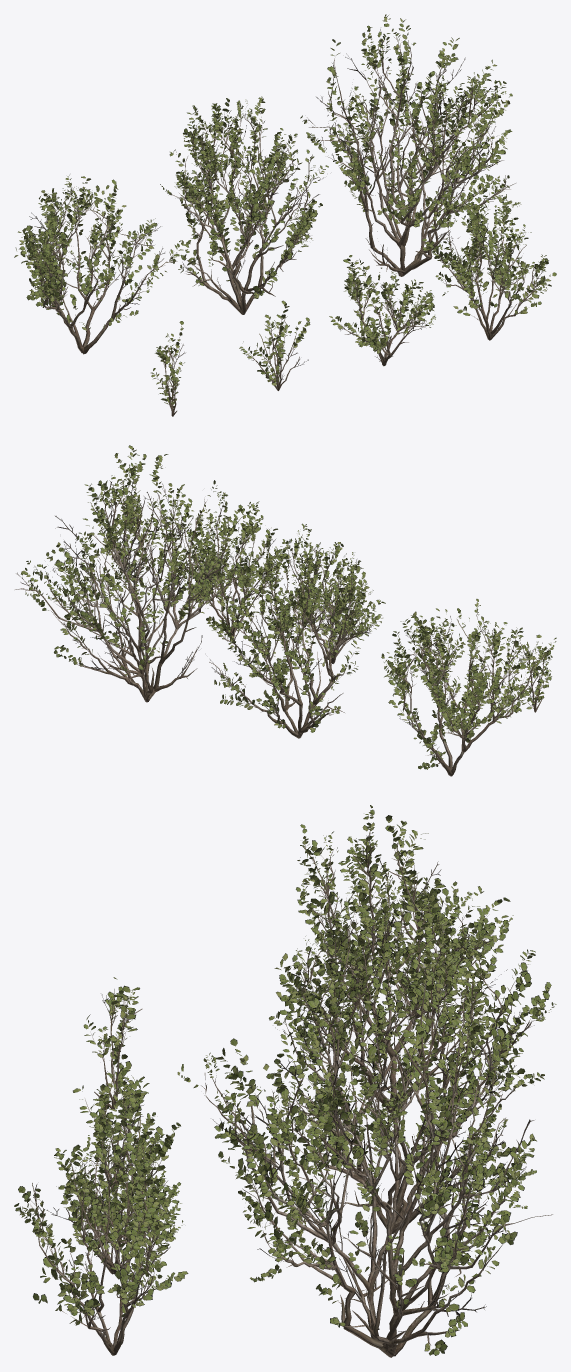
The model's file is searsia_lucida.glb.
3 views of the same model, one above another, from view 1: azimuth 30°, elevation 25°; view 2: azimuth 150°, elevation 25°; view 3: azimuth 270°, elevation 25° (orthographic). The views are drawn at different scales.
Parts seen in each view (by area): view 1: searsia_lucida_a_LOD0, searsia_lucida_b_LOD0, searsia_lucida_c_LOD0, searsia_lucida_d_LOD0, searsia_lucida_e_LOD0, searsia_lucida_f_LOD0, searsia_lucida_g_LOD0; view 2: searsia_lucida_a_LOD0, searsia_lucida_b_LOD0, searsia_lucida_c_LOD0, searsia_lucida_d_LOD0, searsia_lucida_e_LOD0, searsia_lucida_f_LOD0, searsia_lucida_g_LOD0; view 3: searsia_lucida_a_LOD0, searsia_lucida_b_LOD0, searsia_lucida_c_LOD0, searsia_lucida_d_LOD0, searsia_lucida_e_LOD0, searsia_lucida_g_LOD0, searsia_lucida_f_LOD0.
Boxes of the visible parts, box(x1,y1,x2,y2) form: searsia_lucida_a_LOD0: box(300, 14, 521, 276); searsia_lucida_b_LOD0: box(160, 96, 328, 314); searsia_lucida_c_LOD0: box(14, 175, 194, 354); searsia_lucida_d_LOD0: box(422, 177, 556, 340); searsia_lucida_e_LOD0: box(329, 255, 448, 366); searsia_lucida_f_LOD0: box(239, 300, 310, 390); searsia_lucida_g_LOD0: box(151, 321, 185, 416); searsia_lucida_a_LOD0: box(15, 445, 269, 702); searsia_lucida_b_LOD0: box(206, 523, 373, 738); searsia_lucida_c_LOD0: box(381, 599, 556, 776); searsia_lucida_d_LOD0: box(177, 494, 292, 637); searsia_lucida_e_LOD0: box(281, 566, 385, 663); searsia_lucida_f_LOD0: box(400, 611, 465, 686); searsia_lucida_g_LOD0: box(511, 631, 552, 712); searsia_lucida_a_LOD0: box(177, 950, 552, 1357); searsia_lucida_b_LOD0: box(269, 885, 556, 1233); searsia_lucida_c_LOD0: box(276, 805, 513, 1113); searsia_lucida_d_LOD0: box(14, 1106, 188, 1355); searsia_lucida_e_LOD0: box(44, 1070, 180, 1274); searsia_lucida_g_LOD0: box(83, 977, 142, 1108); searsia_lucida_f_LOD0: box(73, 1075, 163, 1191).
Size of the model in its own units: 4.77 by 2.33 by 2.82.
2 materials, 2 textured.
